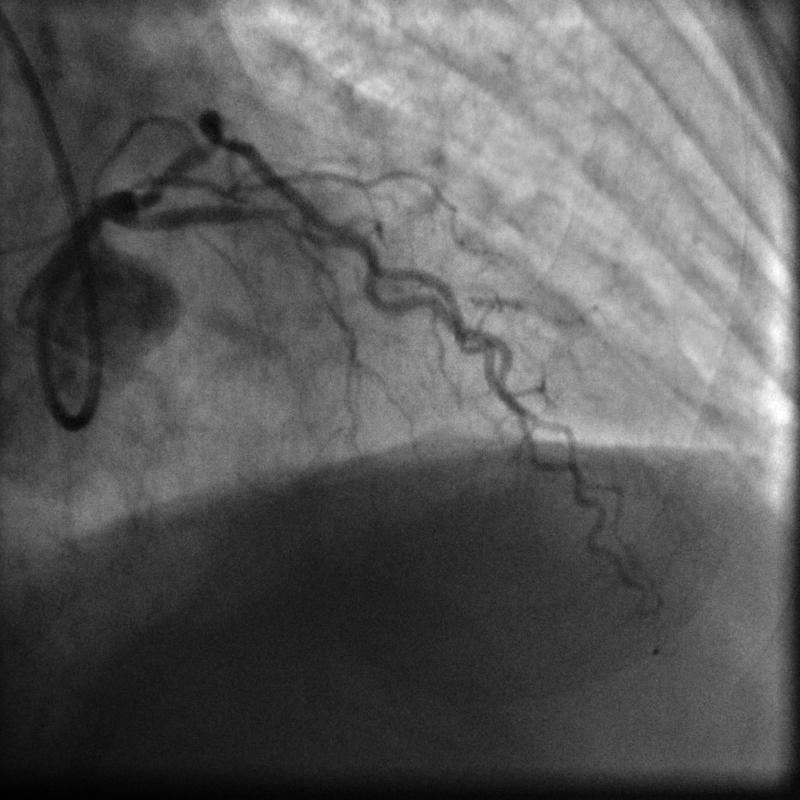Stenosis: (262, 202, 315, 246)
